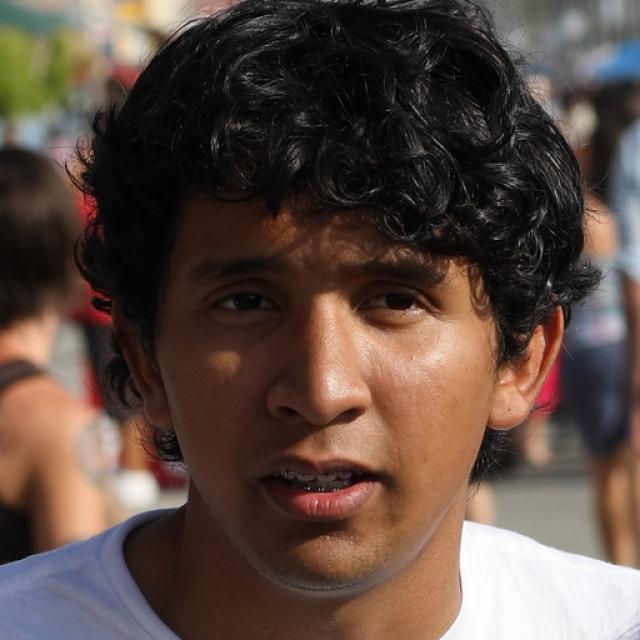disgust: (156, 166, 498, 594)
